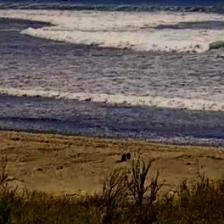surfer: (62, 0, 70, 3), (30, 0, 37, 3)
